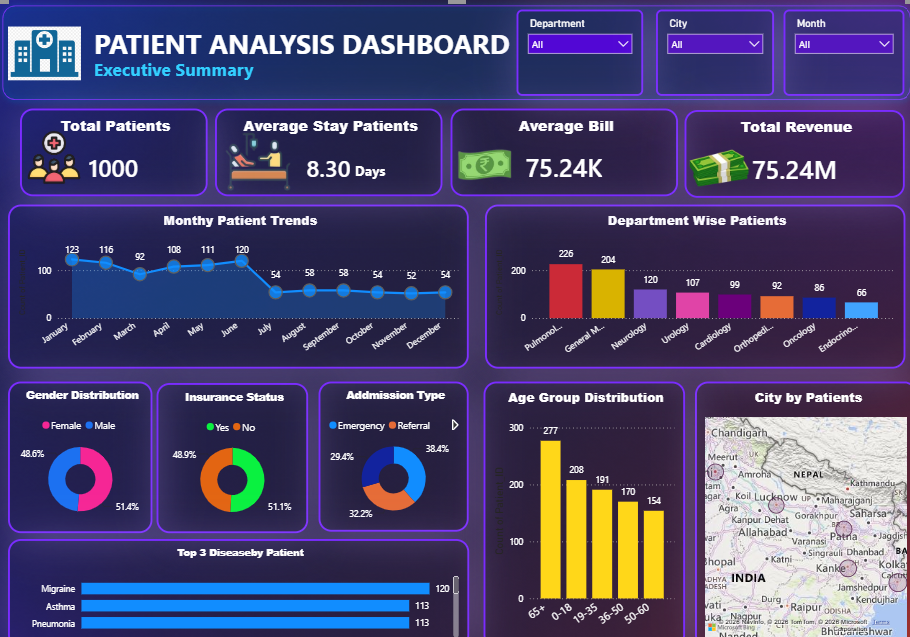

This screenshot's page, from the dashboard's own definition file:
{"tool":"powerbi","page":{"name":"Page 1","canvas":[1280,900],"ordinal":0},"visuals":[{"type":"shape","box":[0,0,1280.9,149.2],"z":0,"group":"g3"},{"type":"cardVisual","title":"Total Patients","fields":{"Data":["CountNonNull(Hospital_Data.Patient_ID)"]},"box":[33.5,152.1,260.6,122.1],"z":0,"group":"g1"},{"type":"cardVisual","title":"Average Stay Patients","fields":{"Data":["Avg(Hospital_Data.Length_of_Stay)"]},"box":[304.1,152.1,316.1,122.1],"z":0,"group":"g2"},{"type":"cardVisual","title":"Average Bill","fields":{"Data":["Avg(Hospital_Data.Total_Bill)"]},"box":[630.2,152.1,316.1,122.1],"z":0,"group":"g4"},{"type":"cardVisual","title":"Total Revenue","fields":{"Data":["Sum(Hospital_Data.Total_Bill)1"]},"box":[956.3,154.1,306.1,122.1],"z":0,"group":"g5"},{"type":"textbox","box":[132,32,604.2,88.1],"z":1000,"group":"g3"},{"type":"image","box":[16,170.1,128,98.1],"z":1000,"group":"g1"},{"type":"image","box":[294.1,152.1,140,148.1],"z":2000,"group":"g3"},{"type":"textbox","box":[132,74.1,242.7,43.8],"z":3000,"group":"g3"},{"type":"image","box":[16,22,101.4,105.5],"z":4000,"group":"g3"},{"type":"slicer","fields":{"Values":["Hospital_Data.Department"]},"box":[722.2,14,176.1,120.1],"z":5000,"group":"g3"},{"type":"lineChart","title":"Monthy Patient Trends","fields":{"Category":["Hospital_Data.Admission_Date.Variation.Date Hierarchy.Month"],"Y":["CountNonNull(Hospital_Data.Patient_ID)"]},"box":[16,286.2,640.2,228.2],"z":6000,"group":"g3"},{"type":"columnChart","title":"Department Wise Patients","fields":{"Category":["Hospital_Data.Department"],"Y":["CountNonNull(Hospital_Data.Patient_ID)"]},"box":[678.2,286.2,584.2,228.2],"z":7000,"group":"g3"},{"type":"donutChart","title":"Gender Distribution","fields":{"Category":["Hospital_Data.Gender"],"Y":["CountNonNull(Hospital_Data.Patient_ID)"]},"box":[15.9,531.3,200.9,210.9],"z":8000,"group":"g3"},{"type":"donutChart","title":"Insurance Status","fields":{"Category":["Hospital_Data.Insurance"],"Y":["CountNonNull(Hospital_Data.Patient_ID)"]},"box":[222.8,533.3,210.8,208.9],"z":9000,"group":"g3"},{"type":"donutChart","title":"Addmission Type","fields":{"Category":["Hospital_Data.Admission_Type"],"Y":["CountNonNull(Hospital_Data.Patient_ID)"]},"box":[447.5,531.3,208.8,208.9],"z":10000,"group":"g3"},{"type":"barChart","title":"Top 3 Diseaseby Patient","fields":{"Category":["Hospital_Data.Disease"],"Y":["CountNonNull(Hospital_Data.Patient_ID)"]},"box":[15.9,750.1,640.4,151.2],"z":11000,"group":"g3"},{"type":"map","title":"City by Patients","fields":{"Category":["Hospital_Data.City"],"Size":["CountNonNull(Hospital_Data.Patient_ID)"]},"box":[970.6,531.3,310.3,370.1],"z":12000,"group":"g3"},{"type":"columnChart","title":"Age Group Distribution","fields":{"Category":["Hospital_Data.Age Group"],"Y":["CountNonNull(Hospital_Data.Patient_ID)"]},"box":[677.8,531,279.7,369.7],"z":13000,"group":"g3"},{"type":"slicer","fields":{"Values":["Hospital_Data.City"]},"box":[916.3,14,164.1,120.1],"z":14000,"group":"g3"},{"type":"slicer","fields":{"Values":["Hospital_Data.Admission_Date.Variation.Date Hierarchy.Month"]},"box":[1094.4,14,168.1,120.1],"z":15000,"group":"g3"},{"type":"group","id":"g1","title":"Group 1","box":[16,152.1,278.1,122.1],"z":16000,"group":"g3"},{"type":"group","id":"g2","title":"Group 1","box":[304.1,152.1,316.1,122.1],"z":17000,"group":"g3"},{"type":"textbox","box":[494.2,220.2,58,40],"z":18000,"group":"g3"},{"type":"group","id":"g3","title":"Group 2","box":[0,0,1280.4,900.7],"z":18005},{"type":"group","id":"g4","title":"Group 1","box":[630.2,152.1,316.1,122.1],"z":19000,"group":"g3"},{"type":"image","box":[620.2,168.1,116,132.1],"z":20000,"group":"g3"},{"type":"group","id":"g5","title":"Group 1","box":[956.3,154.1,306.1,122.1],"z":21000,"group":"g3"},{"type":"image","box":[958.3,184.1,92,102.1],"z":22000,"group":"g3"}]}

Visuals, with their boxes in screenshot pixels (x1, y1, x2, y2), scaled from the page's 1280x900 canvas onto the 910x637 screenshot:
shape: (left=0, top=0, right=909, bottom=106)
"Total Patients" cardVisual: (left=24, top=108, right=209, bottom=194)
"Average Stay Patients" cardVisual: (left=216, top=108, right=441, bottom=194)
"Average Bill" cardVisual: (left=448, top=108, right=673, bottom=194)
"Total Revenue" cardVisual: (left=680, top=109, right=897, bottom=195)
textbox: (left=94, top=23, right=523, bottom=85)
image: (left=11, top=120, right=102, bottom=190)
image: (left=209, top=108, right=309, bottom=212)
textbox: (left=94, top=52, right=266, bottom=83)
image: (left=11, top=16, right=83, bottom=90)
slicer - Hospital_Data.Department: (left=513, top=10, right=639, bottom=95)
"Monthy Patient Trends" lineChart: (left=11, top=203, right=467, bottom=364)
"Department Wise Patients" columnChart: (left=482, top=203, right=897, bottom=364)
"Gender Distribution" donutChart: (left=11, top=376, right=154, bottom=525)
"Insurance Status" donutChart: (left=158, top=377, right=308, bottom=525)
"Addmission Type" donutChart: (left=318, top=376, right=467, bottom=524)
"Top 3 Diseaseby Patient" barChart: (left=11, top=531, right=467, bottom=636)
"City by Patients" map: (left=690, top=376, right=909, bottom=636)
"Age Group Distribution" columnChart: (left=482, top=376, right=681, bottom=636)
slicer - Hospital_Data.City: (left=651, top=10, right=768, bottom=95)
slicer - Hospital_Data.Admission_Date.Variation.Date Hierarchy.Month: (left=778, top=10, right=898, bottom=95)
"Group 1" group: (left=11, top=108, right=209, bottom=194)
"Group 1" group: (left=216, top=108, right=441, bottom=194)
textbox: (left=351, top=156, right=393, bottom=184)
"Group 2" group: (left=0, top=0, right=909, bottom=636)
"Group 1" group: (left=448, top=108, right=673, bottom=194)
image: (left=441, top=119, right=523, bottom=212)
"Group 1" group: (left=680, top=109, right=897, bottom=195)
image: (left=681, top=130, right=747, bottom=203)
